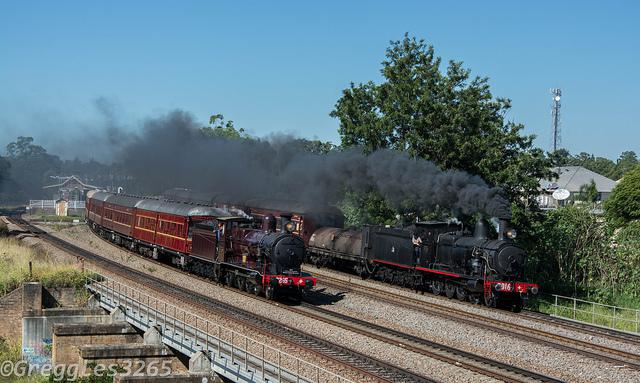Train: (154, 187, 540, 313), (86, 188, 321, 306)
